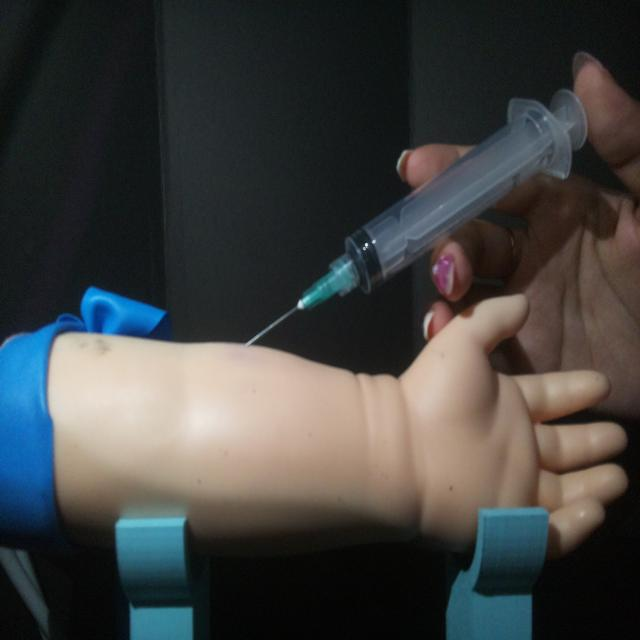30deg: (239, 83, 591, 350)
